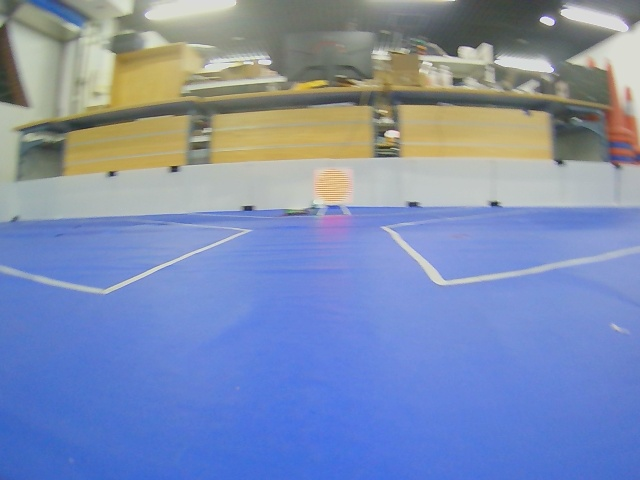red: (314, 168, 353, 205)
